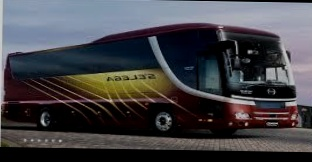bus: (3, 17, 300, 139)
